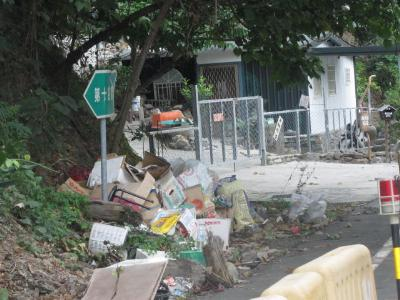bowl: (88, 154, 133, 186)
box: (152, 171, 185, 209)
